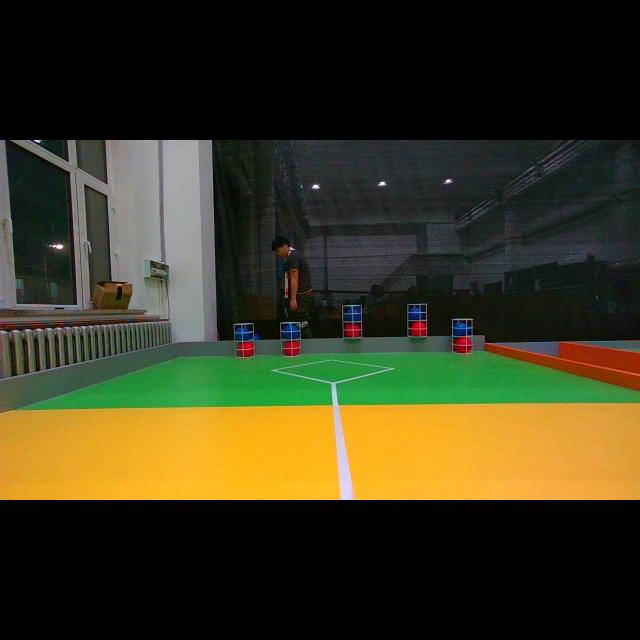B: (284, 326, 300, 340), (346, 309, 360, 323), (408, 309, 424, 321), (454, 324, 468, 336), (236, 328, 250, 340)
R: (454, 338, 472, 354), (238, 343, 254, 357), (344, 323, 360, 337), (411, 322, 425, 338), (286, 343, 298, 355)
S: (448, 318, 476, 354), (230, 323, 258, 357), (278, 322, 304, 358), (340, 306, 364, 338), (405, 304, 429, 336)
